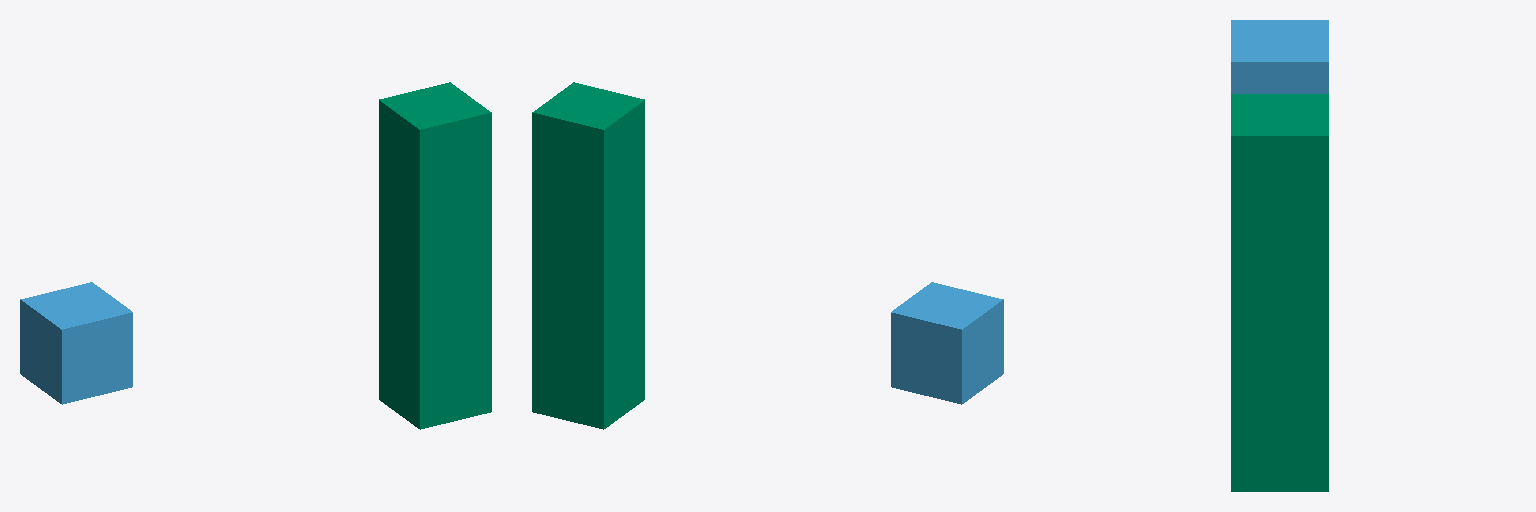
The robot description file, URDF, robot "multibody":
<?xml version="1.0" ?>
<!-- Multi-body scene file (URDF) for 1->N loading tests. A 'world' root link with two
     children: 'free_box' on a floating joint (registered free / INDIVIDUAL) and
     'static_post' on a fixed joint at +0.5 m x (registered static / SCENE). The free vs
     static classification is read from joint type (floating vs fixed). static_post sits
     +0.5 m x from free_box, giving a known, cross-backend body-to-body offset. -->
<robot name="multibody">
  <link name="world"/>

  <link name="free_box">
    <inertial>
      <mass value="0.1"/>
      <inertia ixx="0.0002" ixy="0" ixz="0" iyy="0.0002" iyz="0" izz="0.0002"/>
    </inertial>
    <visual>
      <geometry><box size="0.1 0.1 0.1"/></geometry>
    </visual>
    <collision>
      <geometry><box size="0.1 0.1 0.1"/></geometry>
    </collision>
  </link>

  <link name="static_post">
    <inertial>
      <mass value="0.1"/>
      <inertia ixx="0.0002" ixy="0" ixz="0" iyy="0.0002" iyz="0" izz="0.0002"/>
    </inertial>
    <visual>
      <geometry><box size="0.1 0.1 0.4"/></geometry>
    </visual>
    <collision>
      <geometry><box size="0.1 0.1 0.4"/></geometry>
    </collision>
  </link>

  <joint name="free_box_joint" type="floating">
    <parent link="world"/>
    <child link="free_box"/>
    <origin xyz="0 0 0" rpy="0 0 0"/>
  </joint>

  <joint name="static_post_joint" type="fixed">
    <parent link="world"/>
    <child link="static_post"/>
    <origin xyz="0.5 0 0" rpy="0 0 0"/>
  </joint>
</robot>

--- Facts derived from the render (not from the file) ---
3 views of the same robot in one strip: view 1: azimuth 30°, elevation 25°; view 2: azimuth 150°, elevation 25°; view 3: azimuth 270°, elevation 25° (orthographic).
Robot: multibody — 3 links, 2 joints (1 fixed, 1 floating); root link world; default pose: every joint at zero.
Links seen in each view (by area): view 1: static_post, free_box; view 2: static_post, free_box; view 3: static_post, free_box.
Boxes of the visible links, x1,y1,x2,y2 form: static_post: (379, 82, 491, 429); free_box: (20, 282, 132, 404); static_post: (532, 82, 644, 429); free_box: (891, 282, 1003, 404); static_post: (1231, 94, 1328, 491); free_box: (1231, 20, 1328, 93).
Bounding box of the posed robot: 0.6 × 0.1 × 0.4 m (x, y, z).
Geometry: primitives only (box / cylinder / sphere), no mesh files.
